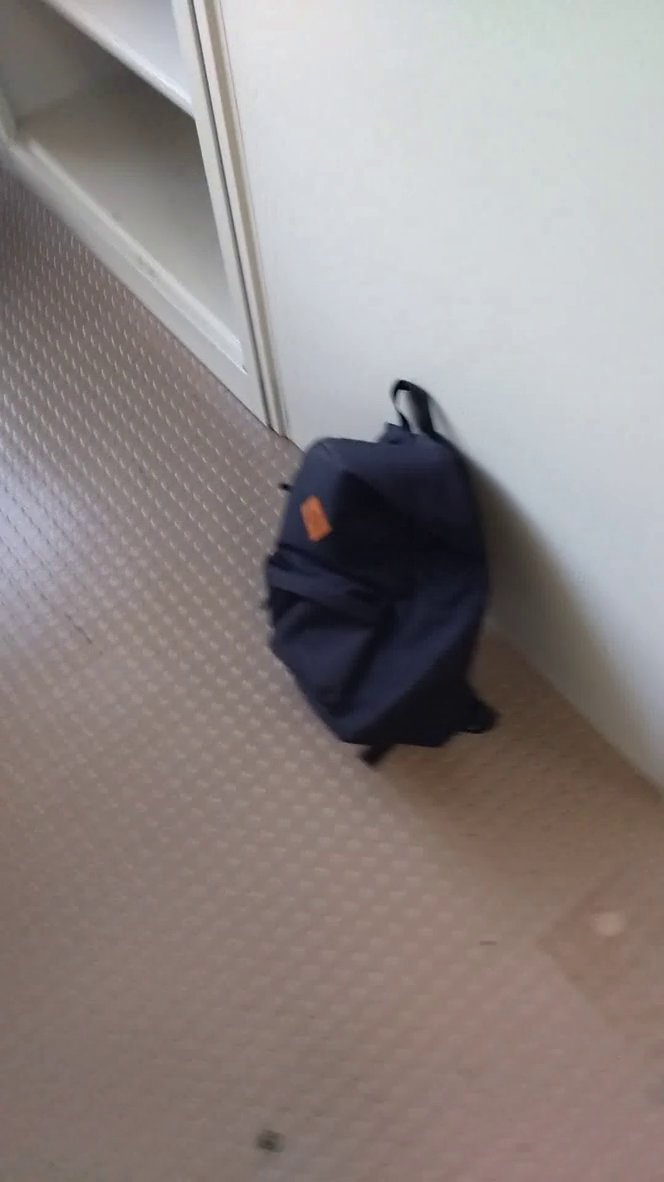bag: (259, 370, 526, 780)
